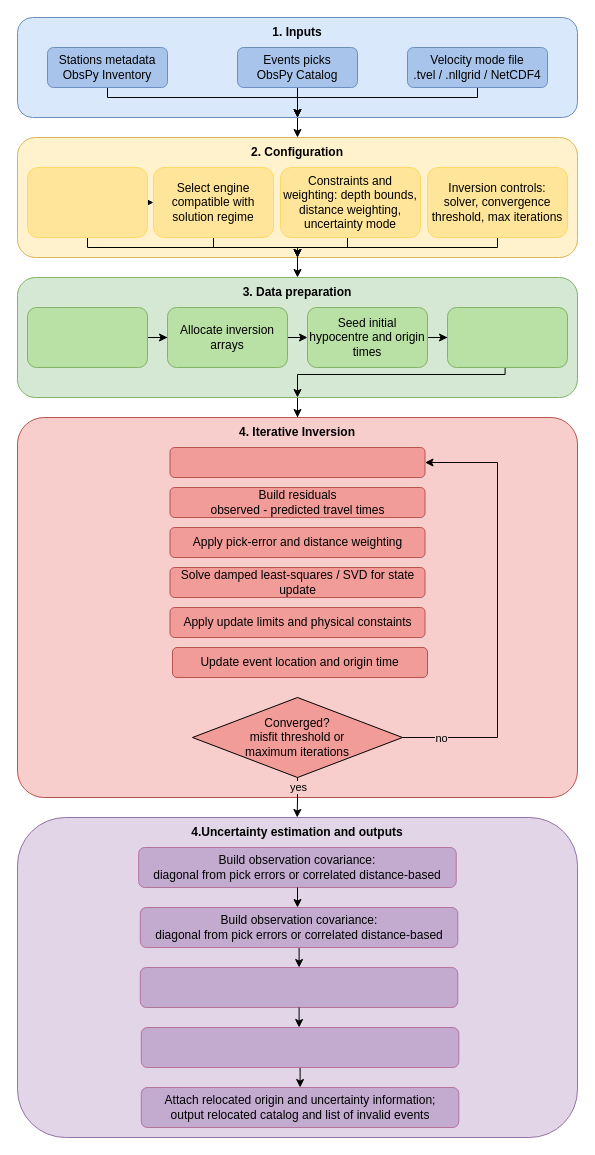
Image size: 595x1155. Some labels were removed from this diagram. The shapes that lost their labels are listed below. From the top down, each one's centre as x and y in pixels, then its label:
At point 87,202: "Solution regime: 1D ray tracing, 1D tables or 3d tables".
At point 87,337: "Load and organize picks and stations".
At point 507,337: "Select best initial hypocenter and origin time".
At point 297,462: "Predict travel times for current events state".
At point 298,987: "Obtain parameter covariance, scaled by reduced chi-squared".
At point 299,1047: "Extract uncertainty metrics: 95% confidence ellipsoid, ERH and ERZ".
